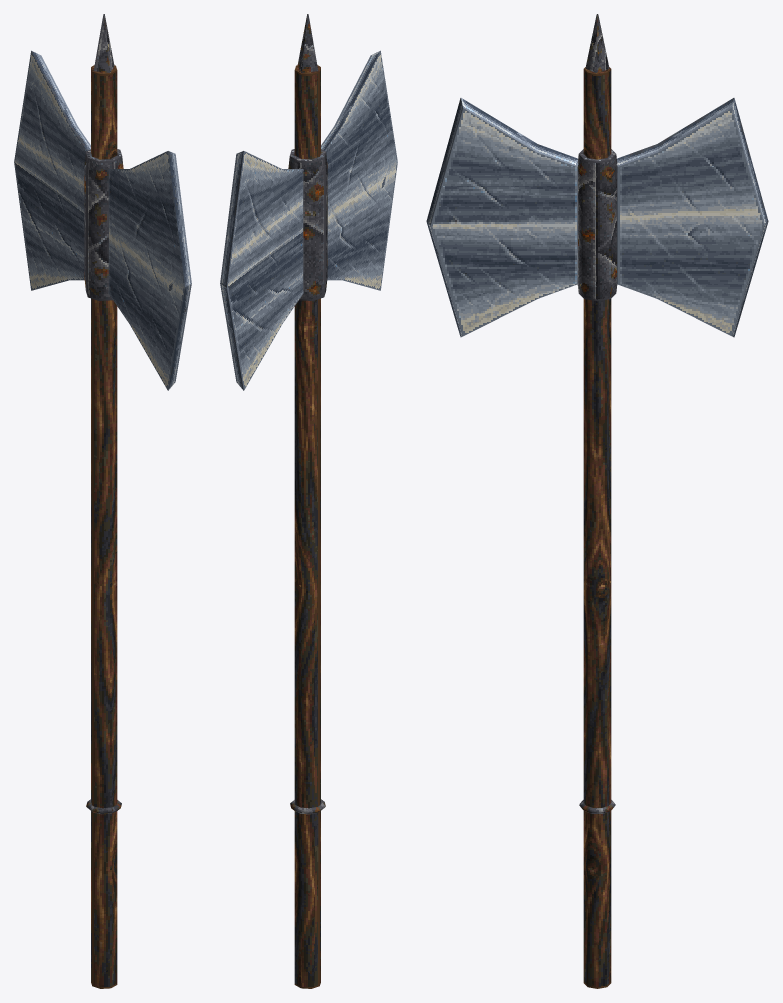
File: great_axe.glb
3 renders of one model, left to right at view 1: azimuth 30°, elevation 25°; view 2: azimuth 150°, elevation 25°; view 3: azimuth 270°, elevation 25°, orthographic.
Parts seen in each view (by area): view 1: great_axe; view 2: great_axe; view 3: great_axe.
Part boxes in pixels (x1,y1,x2,y2): great_axe: (14,14,191,988); great_axe: (220,14,397,988); great_axe: (426,14,768,988).
Size of the model in its own units: 0.048 by 1.25 by 0.4.
1 material, 1 textured.
